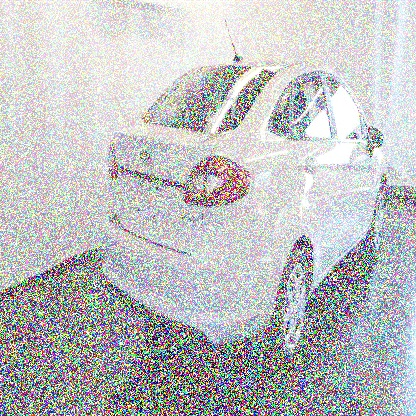Vehicle: (101, 22, 389, 364)
